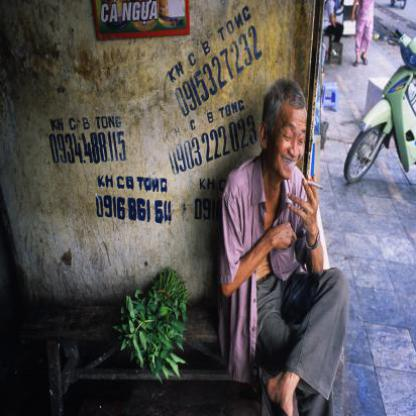cigarette: (308, 179, 324, 191)
person: (215, 79, 343, 415)
